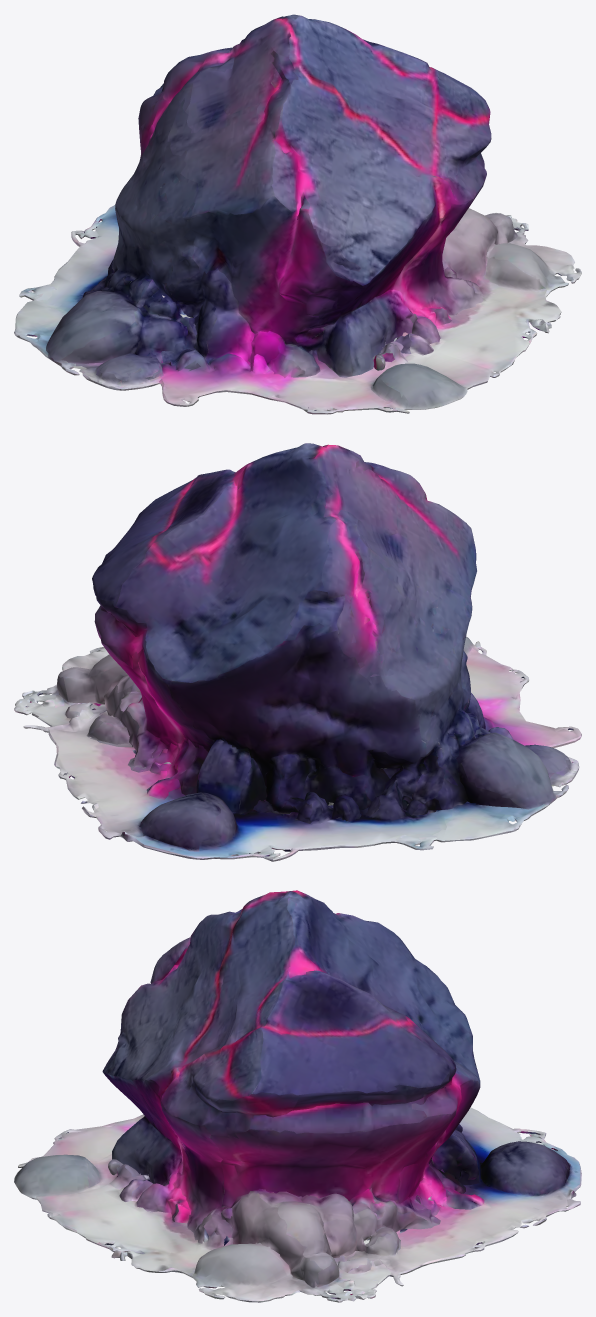
The model's file is shore-stone-14-generated-2026-05-17T20-31-35-259Z.low.glb.
The picture shows the model from 3 angles, top to bottom: view 1: azimuth 30°, elevation 25°; view 2: azimuth 150°, elevation 25°; view 3: azimuth 270°, elevation 25°; orthographic projection. The views are drawn at different scales.
Visible parts, largest first — view 1: temp_mesh.ply; view 2: temp_mesh.ply; view 3: temp_mesh.ply.
Part boxes in pixels (<box>): temp_mesh.ply: <box>14,14,581,414</box>; temp_mesh.ply: <box>14,443,581,861</box>; temp_mesh.ply: <box>14,890,581,1302</box>.
Bounding box in the file's own units: 1.96 × 1.1 × 1.97.
1 material, 1 textured.
